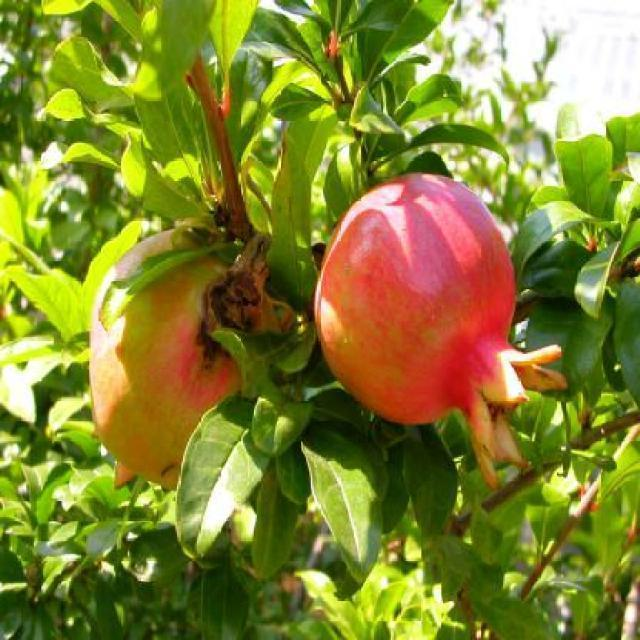Pomegranate: (314, 173, 568, 492), (89, 228, 294, 496)
